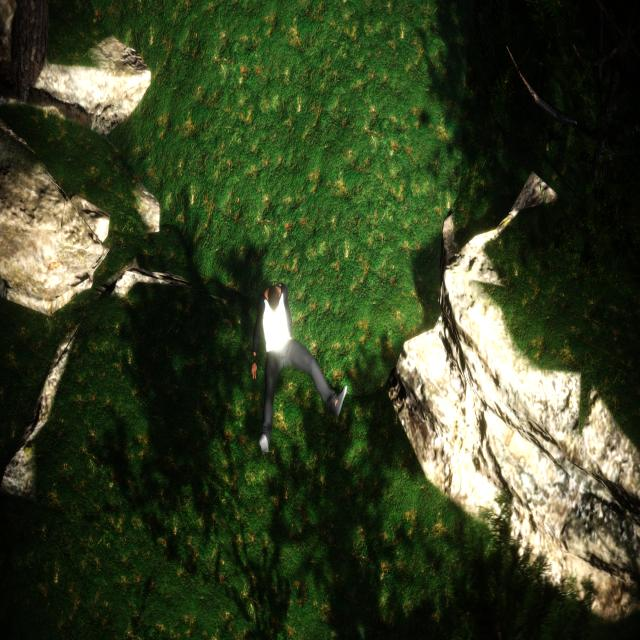Human: (245, 270, 350, 462)
